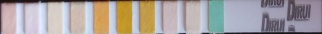color 1: (2, 5, 15, 32)
color 10: (209, 2, 222, 30)
color 2: (26, 5, 37, 32)
color 3: (49, 5, 61, 32)
color 4: (72, 4, 83, 32)
color 5: (95, 4, 107, 32)
color 6: (118, 3, 130, 32)
color 7: (141, 3, 153, 32)
color 8: (164, 3, 176, 31)
color 9: (187, 4, 199, 31)
